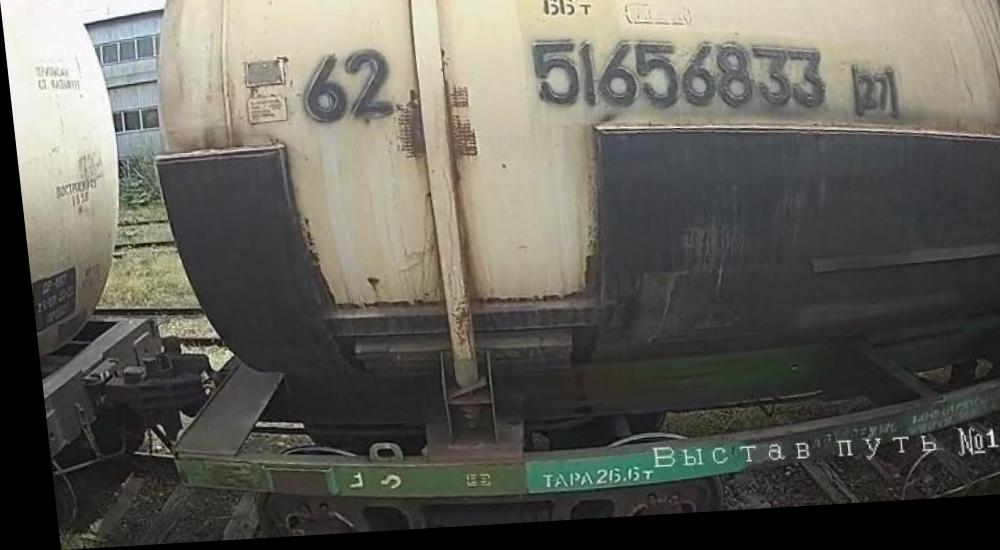Wagon-number: (524, 32, 829, 138)
